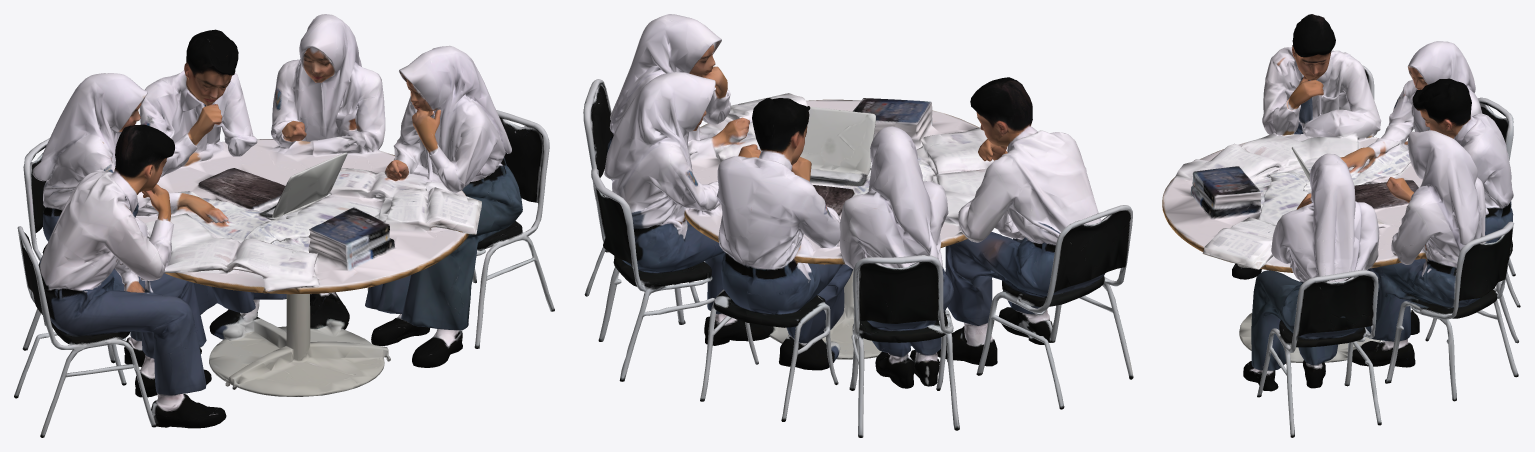
Rendered from 3__Penalaran_Kritis_final.glb.
The picture shows the model from 3 angles, left to right: view 1: azimuth 30°, elevation 25°; view 2: azimuth 150°, elevation 25°; view 3: azimuth 270°, elevation 25°; orthographic projection. The views are drawn at different scales.
Size of the model in its own units: 1.9 by 0.9715 by 1.28.
Materials: 1 (1 with a texture image).
